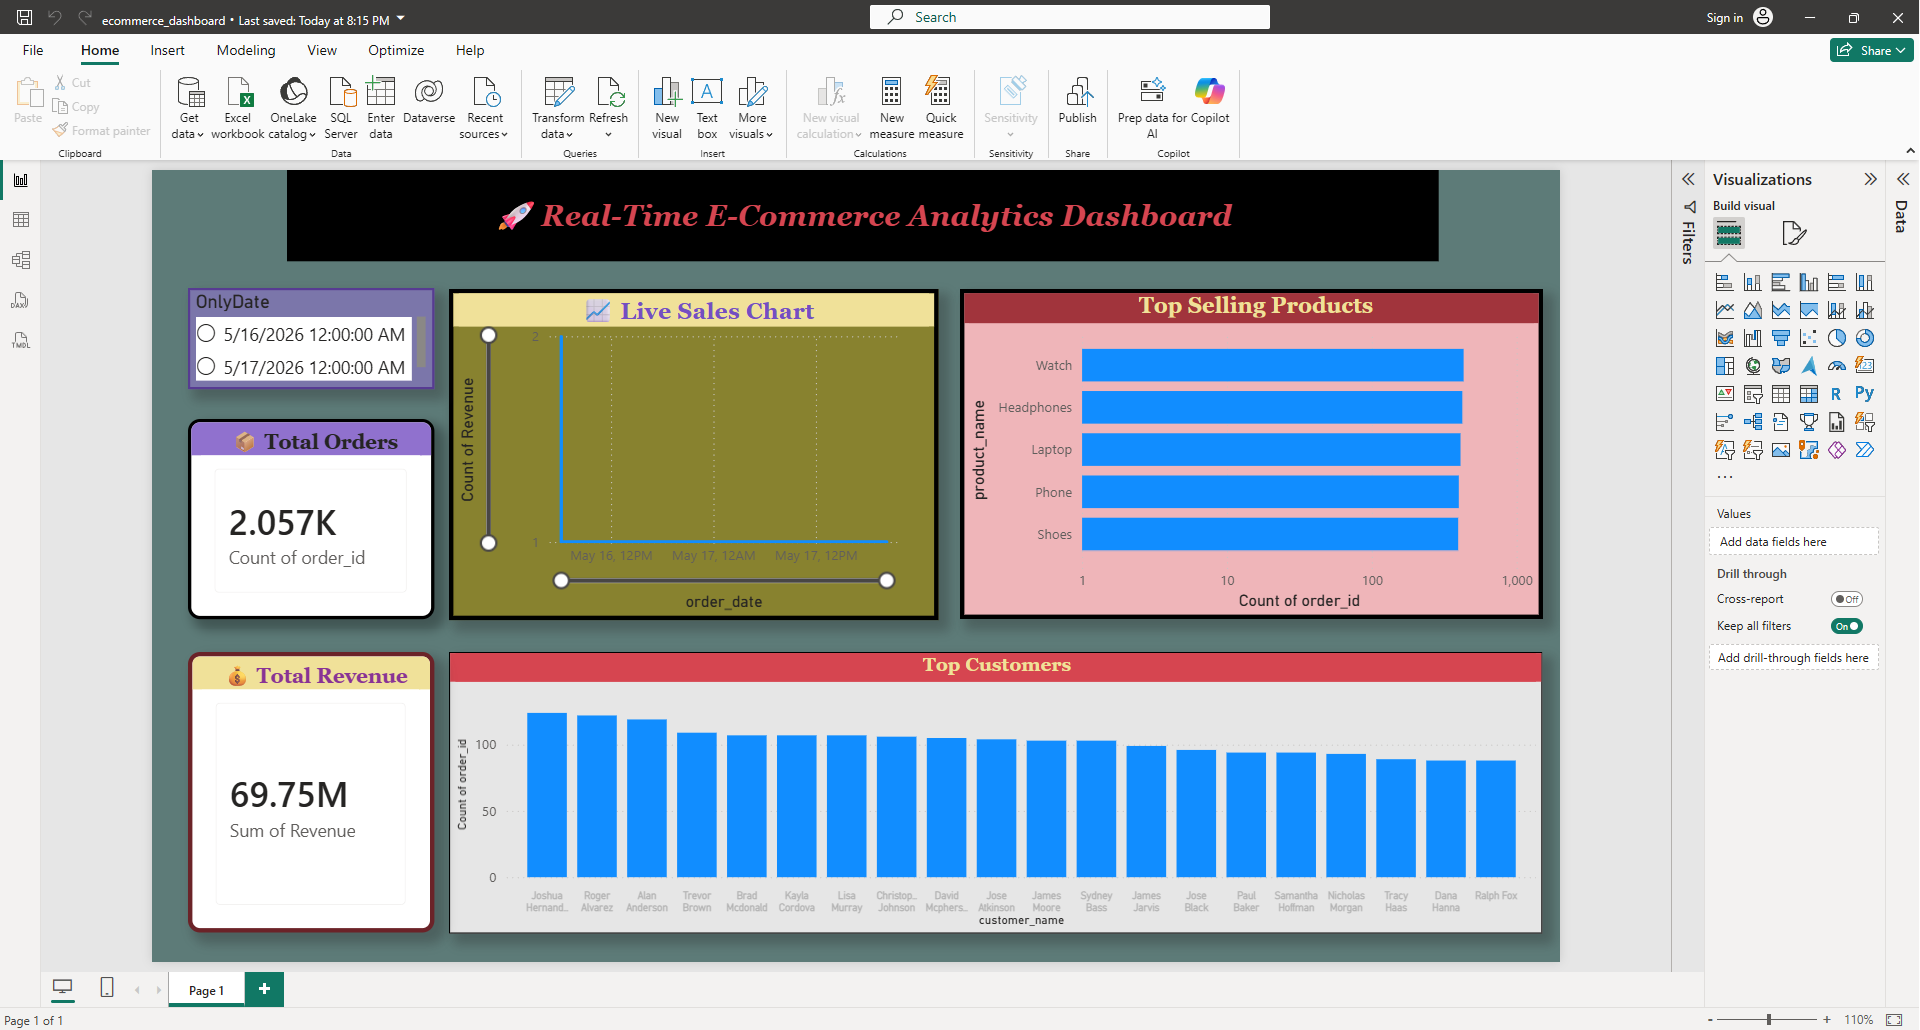

Layout of this report page (visuals, bound fields, positions):
{"tool":"powerbi","page":{"name":"Page 1","canvas":[1280,720],"ordinal":0},"visuals":[{"type":"cardVisual","title":"Total Revenue","fields":{"Data":["Sum(ecommerce_project orders.Revenue)"]},"box":[745,135,188.3,128.3],"z":0},{"type":"lineChart","title":"📈 Live Sales Chart","fields":{"Y":["CountNonNull(ecommerce_project orders.Revenue)"],"Category":["ecommerce_project orders.order_date"]},"box":[270,108,445,301],"z":1000},{"type":"clusteredBarChart","title":"Top Selling Products","fields":{"Category":["ecommerce_project products.product_name"],"Y":["CountNonNull(ecommerce_project orders.order_id)"]},"box":[734.2,108.3,530,300],"z":2000},{"type":"clusteredColumnChart","title":"Top Customers","fields":{"Category":["ecommerce_project customers.customer_name"],"Y":["CountNonNull(ecommerce_project orders.order_id)"]},"box":[270,438.6,994.3,255.7],"z":4000},{"type":"textbox","box":[123,0,1047,83],"z":5000},{"type":"listSlicer","fields":{"Values":["ecommerce_project orders.OnlyDate"]},"box":[32.3,107.7,223.8,91.5],"z":6000},{"type":"cardVisual","title":"💰 Total Revenue","fields":{"Data":["Sum(ecommerce_project orders.Revenue)"]},"box":[32.7,438.2,223.6,255.5],"z":6001},{"type":"cardVisual","title":"📦 Total Orders","fields":{"Data":["CountNonNull(ecommerce_project orders.order_id)"]},"box":[32.3,226.2,223.8,182.3],"z":6002}]}

Visuals, with their boxes on the page's 1280x720 design canvas (x1, y1, x2, y2). These are canvas units, not pixel positions in the 1920x1030 screenshot, which may show the page scaled, cropped or inside an application window:
"Total Revenue" cardVisual: <region>745, 135, 933, 263</region>
"📈 Live Sales Chart" lineChart: <region>270, 108, 715, 409</region>
"Top Selling Products" clusteredBarChart: <region>734, 108, 1264, 408</region>
"Top Customers" clusteredColumnChart: <region>270, 439, 1264, 694</region>
textbox: <region>123, 0, 1170, 83</region>
listSlicer - ecommerce_project orders.OnlyDate: <region>32, 108, 256, 199</region>
"💰 Total Revenue" cardVisual: <region>33, 438, 256, 694</region>
"📦 Total Orders" cardVisual: <region>32, 226, 256, 408</region>
